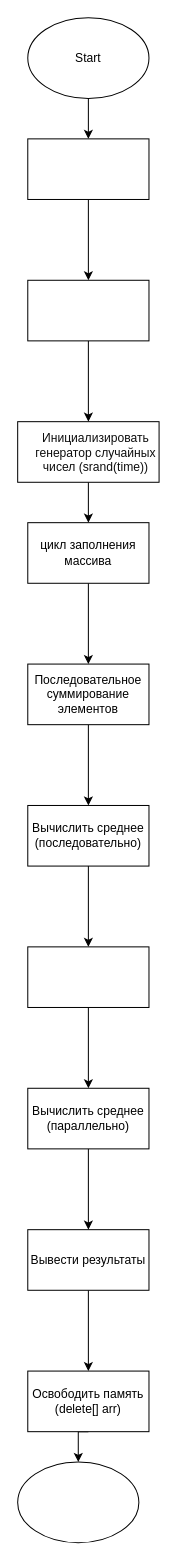
The diagram is 177 pixels wide and 1560 high, and some of its shapes have lost their labels. Here are the shapes that lost their labels. From the top down, the centre of each, then its label:
At (88,168): "Делаем Input n (array size)".
At (88,310): "Выделяем память для массива (new int[n])".
At (88,976): "Параллельное суммирование (OpenMP + reduction)".
At (78,1502): "End".
